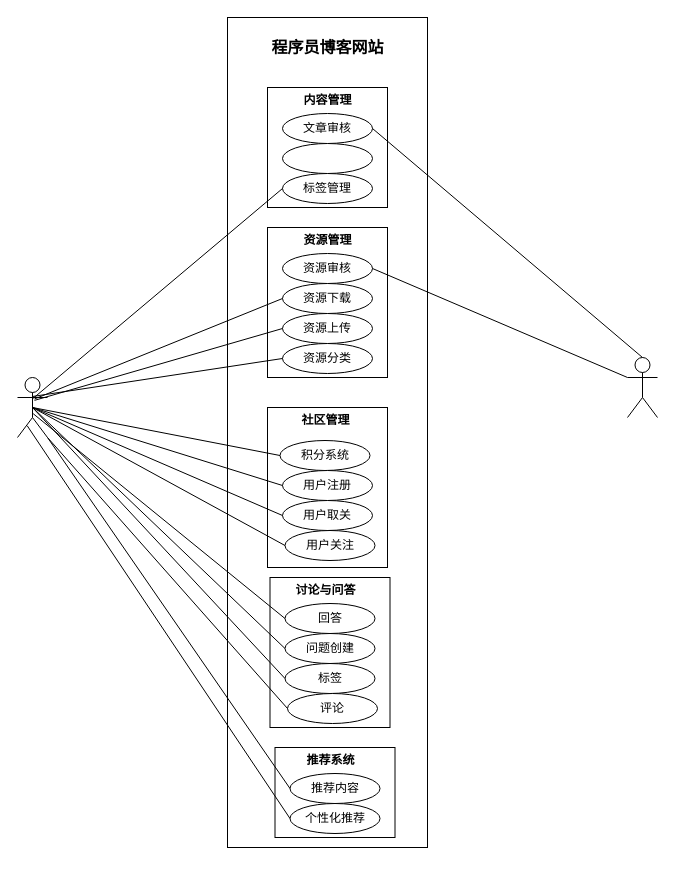
Some shapes in this 677 by 873 pixel diagram are drawn without their labels. Here are the shapes that lost their labels. From the top down, the centre of each, then its label:
(x=327, y=158): 文章发布
(x=32, y=407): User
(x=642, y=387): Admin
